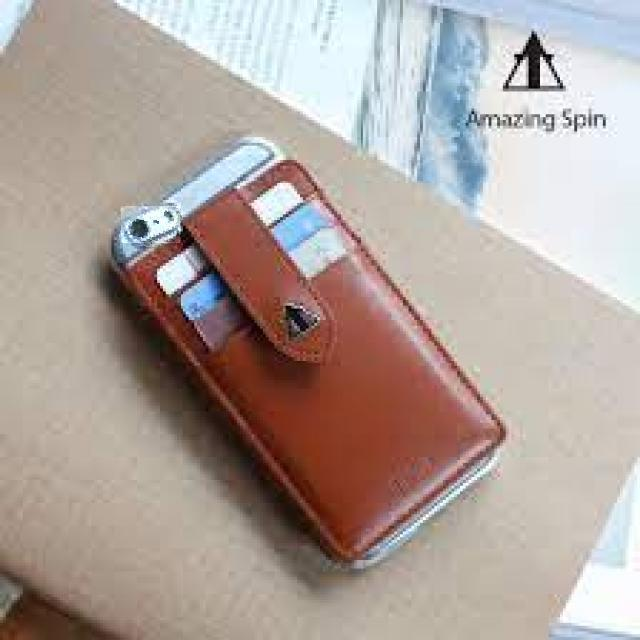lens: (121, 208, 179, 244)
phone: (110, 138, 505, 571)
